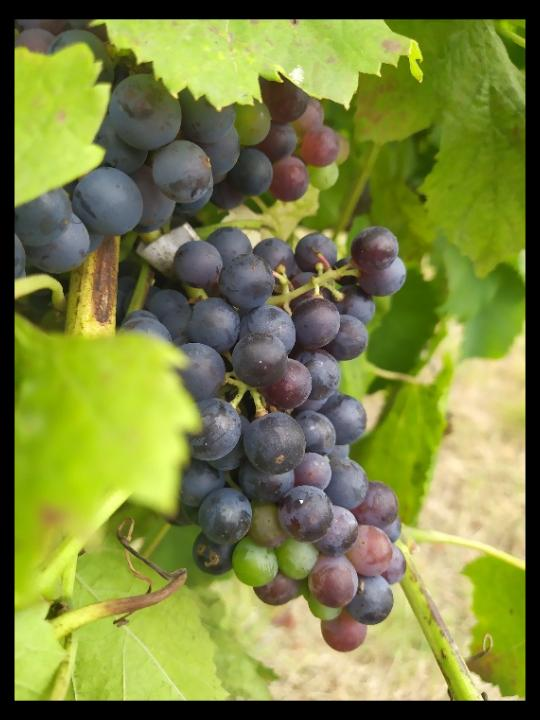grape: (115, 224, 411, 655)
